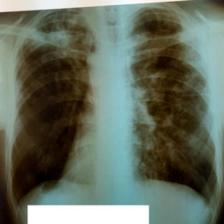tuberculosis: (6, 2, 224, 208)
